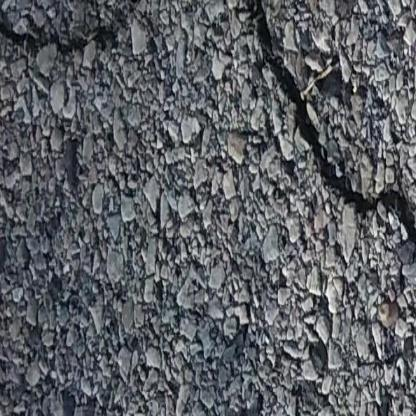Cracks: (221, 0, 416, 271), (0, 0, 160, 49)
